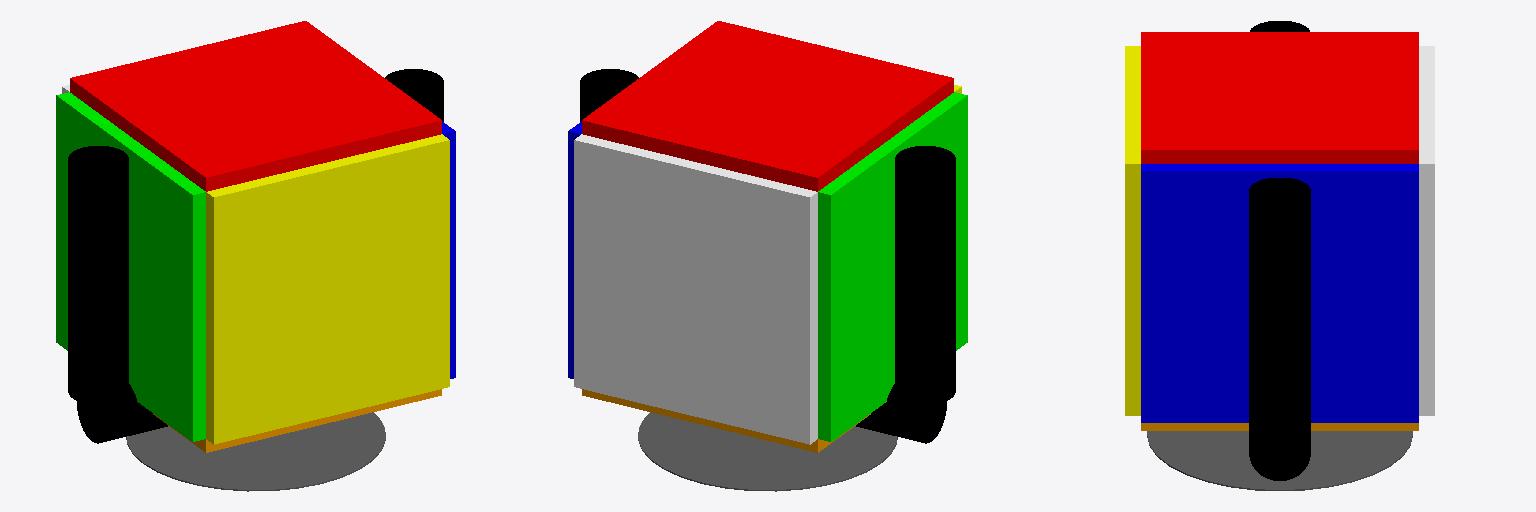
robot.urdf — snakebot:
<?xml version="1.0" ?>
<!-- =================================================================================== -->
<!-- |    This document was autogenerated by xacro from snakebot.urdf.xacro            | -->
<!-- |    EDITING THIS FILE BY HAND IS NOT RECOMMENDED                                 | -->
<!-- =================================================================================== -->
<robot name="snakebot">


  <!-- *************************************************** -->
  <!-- ******************* RVIZ Colors ******************* -->
  <!-- *************************************************** -->

  <material name="white">    <color rgba="1.00 1.00 1.00 1"/>  </material>
  <material name="gray">     <color rgba="0.60 0.60 0.60 1"/>  </material>
  <material name="table">    <color rgba="0.85 0.77 0.77 1"/>  </material>
  <material name="black">    <color rgba="0.00 0.00 0.00 1"/>  </material>

  <material name="red">      <color rgba="1.00 0.00 0.00 1"/>  </material>
  <material name="green">    <color rgba="0.00 1.00 0.00 1"/>  </material>
  <material name="blue">     <color rgba="0.00 0.00 1.00 1"/>  </material>

  <material name="cyan">     <color rgba="0.00 1.00 1.00 1"/>  </material>
  <material name="magenta">  <color rgba="1.00 0.00 1.00 1"/>  </material>
  <material name="yellow">   <color rgba="1.00 1.00 0.00 1"/>  </material>

  <material name="orange">   <color rgba="1.00 0.65 0.00 1"/>  </material>



  <!-- *************************************************** -->
  <!-- ******************* PARAMETERS ******************** -->
  <!-- *************************************************** -->
  <material name="Grey">
    <color rgba="0.4 0.4 0.4 1.0"/>
  </material>
  <material name="Red">
    <color rgba="0.82 0.06 0.06 1.0"/>
  </material>
  <material name="Orange">
    <color rgba="1.0 0.4235294117647059 0.0392156862745098 1.0"/>
  </material>
  <!-- *************************************************** -->
  <!-- ******************** BASE MACRO ******************* -->
  <!-- *************************************************** -->
  <!-- *************************************************** -->
  <!-- *************** PAIR OF JOINTS MACRO ************** -->
  <!-- *************************************************** -->
  <!-- *************************************************** -->
  <!-- ***************** TIP FLANGE MACRO **************** -->
  <!-- *************************************************** -->
  <!-- *************************************************** -->
  <!-- ********************** ROBOT ********************** -->
  <!-- *************************************************** -->
  <link name="world"/>
  <joint name="attach-base" type="fixed">
    <parent link="world"/>
    <child link="link0b"/>
  </joint>
  <link name="link0b">
    <visual>
      <geometry>
        <mesh filename="package://snakebot/meshes/base.stl"/>
      </geometry>
      <material name="Grey"/>
    </visual>
  </link>
  <joint name="shift0" type="fixed">
    <parent link="link0b"/>
    <child link="link0c"/>
    <origin rpy="0 0 0" xyz="0 0 0.1575"/>
  </joint>
  <link name="link0c">
    </link>
  <joint name="joint1a" type="continuous">
    <parent link="link0c"/>
    <child link="link1a"/>
    <origin rpy="0 0 3.141592653589793" xyz="0 0 0"/>
    <axis xyz="0 0 1"/>
  </joint>
  <link name="link1a">
    <inertial>
      <origin rpy="0 0 0" xyz="0 -0.03 0.12"/>
      <mass value="4"/>
      <inertia ixx="0.1" ixy="0" ixz="0" iyy="0.09" iyz="0" izz="0.02"/>
    </inertial>
    <visual>
      <origin rpy="0 0 0" xyz="0 0 0"/>
      <geometry>
        <mesh filename="package://snakebot/meshes/link.stl"/>
      </geometry>
      <material name="Orange"/>
    </visual>
  </link>
  <joint name="joint1b" type="continuous">
    <parent link="link1a"/>
    <child link="link1b"/>
    <origin rpy="0 0 0" xyz="0 0 0.2025"/>
    <axis xyz="0 1 0"/>
  </joint>
  <link name="link1b">
    <inertial>
      <origin rpy="3.141592653589793 0 0" xyz="0 0.03 0.08250000000000002"/>
      <mass value="4"/>
      <inertia ixx="0.1" ixy="0" ixz="0" iyy="0.09" iyz="0" izz="0.02"/>
    </inertial>
    <visual>
      <origin rpy="3.141592653589793 0 0" xyz="0 0 0.2025"/>
      <geometry>
        <mesh filename="package://snakebot/meshes/link.stl"/>
      </geometry>
      <material name="Orange"/>
    </visual>
  </link>
  <joint name="shift1" type="fixed">
    <parent link="link1b"/>
    <child link="link1c"/>
    <origin rpy="0 0 0" xyz="0 0 0.2025"/>
  </joint>
  <link name="link1c">
    </link>
  <joint name="joint2a" type="continuous">
    <parent link="link1c"/>
    <child link="link2a"/>
    <origin rpy="0 0 3.141592653589793" xyz="0 0 0"/>
    <axis xyz="0 0 1"/>
  </joint>
  <link name="link2a">
    <inertial>
      <origin rpy="0 0 0" xyz="0 -0.03 0.12"/>
      <mass value="4"/>
      <inertia ixx="0.1" ixy="0" ixz="0" iyy="0.09" iyz="0" izz="0.02"/>
    </inertial>
    <visual>
      <origin rpy="0 0 0" xyz="0 0 0"/>
      <geometry>
        <mesh filename="package://snakebot/meshes/link.stl"/>
      </geometry>
      <material name="Orange"/>
    </visual>
  </link>
  <joint name="joint2b" type="continuous">
    <parent link="link2a"/>
    <child link="link2b"/>
    <origin rpy="0 0 0" xyz="0 0 0.2025"/>
    <axis xyz="0 1 0"/>
  </joint>
  <link name="link2b">
    <inertial>
      <origin rpy="3.141592653589793 0 0" xyz="0 0.03 0.08250000000000002"/>
      <mass value="4"/>
      <inertia ixx="0.1" ixy="0" ixz="0" iyy="0.09" iyz="0" izz="0.02"/>
    </inertial>
    <visual>
      <origin rpy="3.141592653589793 0 0" xyz="0 0 0.2025"/>
      <geometry>
        <mesh filename="package://snakebot/meshes/link.stl"/>
      </geometry>
      <material name="Orange"/>
    </visual>
  </link>
  <joint name="shift2" type="fixed">
    <parent link="link2b"/>
    <child link="link2c"/>
    <origin rpy="0 0 0" xyz="0 0 0.2025"/>
  </joint>
  <link name="link2c">
    </link>
  <joint name="joint3a" type="continuous">
    <parent link="link2c"/>
    <child link="link3a"/>
    <origin rpy="0 0 3.141592653589793" xyz="0 0 0"/>
    <axis xyz="0 0 1"/>
  </joint>
  <link name="link3a">
    <inertial>
      <origin rpy="0 0 0" xyz="0 -0.03 0.12"/>
      <mass value="4"/>
      <inertia ixx="0.1" ixy="0" ixz="0" iyy="0.09" iyz="0" izz="0.02"/>
    </inertial>
    <visual>
      <origin rpy="0 0 0" xyz="0 0 0"/>
      <geometry>
        <mesh filename="package://snakebot/meshes/link.stl"/>
      </geometry>
      <material name="Orange"/>
    </visual>
  </link>
  <joint name="joint3b" type="continuous">
    <parent link="link3a"/>
    <child link="link3b"/>
    <origin rpy="0 0 0" xyz="0 0 0.2025"/>
    <axis xyz="0 1 0"/>
  </joint>
  <link name="link3b">
    <inertial>
      <origin rpy="3.141592653589793 0 0" xyz="0 0.03 0.08250000000000002"/>
      <mass value="4"/>
      <inertia ixx="0.1" ixy="0" ixz="0" iyy="0.09" iyz="0" izz="0.02"/>
    </inertial>
    <visual>
      <origin rpy="3.141592653589793 0 0" xyz="0 0 0.2025"/>
      <geometry>
        <mesh filename="package://snakebot/meshes/link.stl"/>
      </geometry>
      <material name="Orange"/>
    </visual>
  </link>
  <joint name="shift3" type="fixed">
    <parent link="link3b"/>
    <child link="link3c"/>
    <origin rpy="0 0 0" xyz="0 0 0.2025"/>
  </joint>
  <link name="link3c">
    </link>
  <joint name="joint4a" type="continuous">
    <parent link="link3c"/>
    <child link="link4a"/>
    <origin rpy="0 0 3.141592653589793" xyz="0 0 0"/>
    <axis xyz="0 0 1"/>
  </joint>
  <link name="link4a">
    <inertial>
      <origin rpy="0 0 0" xyz="0 -0.03 0.12"/>
      <mass value="4"/>
      <inertia ixx="0.1" ixy="0" ixz="0" iyy="0.09" iyz="0" izz="0.02"/>
    </inertial>
    <visual>
      <origin rpy="0 0 0" xyz="0 0 0"/>
      <geometry>
        <mesh filename="package://snakebot/meshes/link.stl"/>
      </geometry>
      <material name="Orange"/>
    </visual>
  </link>
  <joint name="joint4b" type="continuous">
    <parent link="link4a"/>
    <child link="link4b"/>
    <origin rpy="0 0 0" xyz="0 0 0.2025"/>
    <axis xyz="0 1 0"/>
  </joint>
  <link name="link4b">
    <inertial>
      <origin rpy="3.141592653589793 0 0" xyz="0 0.03 0.08250000000000002"/>
      <mass value="4"/>
      <inertia ixx="0.1" ixy="0" ixz="0" iyy="0.09" iyz="0" izz="0.02"/>
    </inertial>
    <visual>
      <origin rpy="3.141592653589793 0 0" xyz="0 0 0.2025"/>
      <geometry>
        <mesh filename="package://snakebot/meshes/link.stl"/>
      </geometry>
      <material name="Orange"/>
    </visual>
  </link>
  <joint name="shift4" type="fixed">
    <parent link="link4b"/>
    <child link="link4c"/>
    <origin rpy="0 0 0" xyz="0 0 0.2025"/>
  </joint>
  <link name="link4c">
    </link>
  <joint name="attach-mating-plate" type="fixed">
    <parent link="link4c"/>
    <child link="mating-plate"/>
  </joint>
  <link name="mating-plate">
    <visual>
      <geometry>
        <cylinder length="0.001" radius="0.086"/>
      </geometry>
      <material name="Grey"/>
    </visual>
  </link>
  <joint name="attach-flange" type="fixed">
    <parent link="mating-plate"/>
    <child link="flange"/>
  </joint>
  <link name="flange">
    <inertial>
      <origin rpy="0 0 0" xyz="0 0 0.02"/>
      <mass value="0.42857142857142855"/>
      <!--this is for the MFT Pneumatisch flange-->
      <inertia ixx="0.01" ixy="0" ixz="0" iyy="0.01" iyz="0" izz="0.01"/>
    </inertial>
    <visual>
      <geometry>
        <mesh filename="package://snakebot/meshes/flange.stl"/>
      </geometry>
      <material name="Grey"/>
    </visual>
  </link>
  <joint name="finalspin" type="continuous">
    <parent link="flange"/>
    <child link="tip"/>
    <origin rpy="0 0 0" xyz="0 0 0.045"/>
    <axis xyz="0 0 1"/>
  </joint>
  <link name="tip"/>


  
<!-- Attach Fingers and Cube*** -->

 <joint name="attach-palm" type="fixed">
    <parent link="tip"/>
    <child  link="palm"/>
  </joint>
  <link name="palm">
    <visual>
      <origin xyz="0 0 0" rpy="0 1.5708 0"/>
      <geometry>
    <cylinder length="0.25" radius="0.02"/>
      </geometry>
      <material name="black"/>
    </visual>
    <collision>
      <origin xyz="0 0 0" rpy="0 1.5708 0"/>
      <geometry>
    <cylinder length="0.1" radius="0.01"/>
      </geometry>
    </collision>
    <inertial>
      <origin xyz="0 0.1 0" rpy="0 1.5708 0"/>
      <mass value="0.05"/>
      <inertia
        ixx="0.000043" ixy="0.0" ixz="0.0"
        iyy="0.000043" iyz="0.0"
        izz="0.000003"/>
    </inertial>
  </link>

  <joint name="attach-leftfinger" type="fixed">
    <parent link="tip"/>
    <child  link="leftfinger"/>
  </joint>
  <link name="leftfinger">
    <visual>
      <origin xyz="-0.12 0 0.1" rpy="0 0 0"/>
      <geometry>
    <cylinder length="0.17" radius="0.02"/>
      </geometry>
      <material name="black"/>
    </visual>
    <inertial>
      <origin xyz="-0.1 0 0" rpy="0 0 0"/>
      <mass value="0.05"/>
      <inertia
        ixx="0.000022" ixy="0.0" ixz="0.0"
        iyy="0.000022" iyz="0.0"
        izz="0.000002"/>
    </inertial>
  </link>

  <joint name="attach-rightfinger" type="fixed">
    <parent link="tip"/>
    <child  link="rightfinger"/>
  </joint>
  <link name="rightfinger">
    <visual>
      <origin xyz="0.12 0 0.1" rpy="0 0 0"/>
      <geometry>
    <cylinder length="0.17" radius="0.02"/>
      </geometry>
      <material name="black"/>
    </visual>
    <inertial>
      <origin xyz="0.1 0 0.14" rpy="0 0 0"/>
      <mass value="0.05"/>
      <inertia
        ixx="0.000022" ixy="0.0" ixz="0.0"
        iyy="0.000022" iyz="0.0"
        izz="0.000002"/>
    </inertial>
  </link>

  <!-- *** Cube: Six sides *** -->

  <joint name="attach-cube" type="fixed">
    <parent link="tip"/>
    <child  link="cube"/>
  </joint>
  <link name="cube">
    <collision>
      <origin xyz="0 0 0.0" rpy="0 0 0"/>
      <geometry>
    <box size="0.2 0.2 0.20"/>
      </geometry>
    </collision>
    <inertial>
      <origin xyz="0 0 0" rpy="0 0 0"/>
      <mass value="1.0"/>
      <inertia
        ixx="0.000120" ixy="0.0" ixz="0.0"
        iyy="0.000120" iyz="0.0"
        izz="0.000120"/>
    </inertial>
  </link>

  <joint name="attach-cube-xp" type="fixed">
    <parent link="cube"/>
    <child  link="cube-xp"/>
  </joint>
  <link name="cube-xp">
    <visual>
      <origin         xyz=" 0.08   0    0.1"    rpy="0 0 0"/>
      <geometry> <box size="0.0404 0.18 0.18"/> </geometry>
      <material name="blue"/>
    </visual>
  </link>

  <joint name="attach-cube-xm" type="fixed">
    <parent link="cube"/>
    <child  link="cube-xm"/>
  </joint>
  <link name="cube-xm">
    <visual>
      <origin         xyz="-0.08   0    0.1"    rpy="0 0 0"/>
      <geometry> <box size="0.0404 0.18 0.18"/> </geometry>
      <material name="green"/>
    </visual>
  </link>

  <joint name="attach-cube-yp" type="fixed">
    <parent link="cube"/>
    <child  link="cube-yp"/>
  </joint>
  <link name="cube-yp">
    <visual>
      <origin         xyz=" 0    0.08   0.1"    rpy="0 0 0"/>
      <geometry> <box size="0.18 0.0404 0.18"/> </geometry>
      <material name="white"/>
    </visual>
  </link>

  <joint name="attach-cube-ym" type="fixed">
    <parent link="cube"/>
    <child  link="cube-ym"/>
  </joint>
  <link name="cube-ym">
    <visual>
      <origin         xyz=" 0   -0.08   0.1"    rpy="0 0 0"/>
      <geometry> <box size="0.18 0.0404 0.18"/> </geometry>
      <material name="yellow"/>
    </visual>
  </link>

  <joint name="attach-cube-zp" type="fixed">
    <parent link="cube"/>
    <child  link="cube-zp"/>
  </joint>
  <link name="cube-zp">
    <visual>
      <origin         xyz=" 0    0    0.18"   rpy="0 0 0"/>
      <geometry> <box size="0.18 0.18 0.0404"/> </geometry>
      <material name="red"/>
    </visual>
  </link>

  <joint name="attach-cube-zm" type="fixed">
    <parent link="cube"/>
    <child  link="cube-zm"/>
  </joint>
  <link name="cube-zm">
    <visual>
      <origin         xyz=" 0    0   0.02"   rpy="0 0 0"/>
      <geometry> <box size="0.18 0.18 0.0404"/> </geometry>
      <material name="orange"/>
    </visual>
  </link>


</robot>

--- What the picture shows (computed from the rendered views, not written in the file) ---
3 views of the same robot in one strip: view 1: azimuth 30°, elevation 25°; view 2: azimuth 150°, elevation 25°; view 3: azimuth 270°, elevation 25° (orthographic).
Robot: snakebot — 28 links, 27 joints (9 continuous, 18 fixed); root link world; default pose: all joints at 0.
Visible links, largest first — view 1: cube-ym, cube-zp, cube-xm, leftfinger, mating-plate, palm, cube-zm, rightfinger, cube-xp; view 2: cube-yp, cube-zp, cube-xm, leftfinger, mating-plate, palm, cube-zm, rightfinger, cube-xp; view 3: cube-xp, cube-zp, rightfinger, mating-plate, cube-yp, cube-ym, palm, cube-zm, leftfinger.
Link boxes in pixels (box(x1,y1,x2,y2)): cube-ym: box(206, 134, 449, 444); cube-zp: box(70, 21, 441, 191); cube-xm: box(56, 92, 205, 441); leftfinger: box(68, 146, 128, 404); mating-plate: box(126, 412, 385, 491); palm: box(77, 384, 167, 443); cube-zm: box(153, 389, 441, 452); rightfinger: box(385, 69, 443, 121); cube-xp: box(442, 121, 455, 378); cube-yp: box(574, 134, 817, 444); cube-zp: box(582, 21, 953, 191); cube-xm: box(818, 92, 967, 441); leftfinger: box(895, 146, 955, 404); mating-plate: box(638, 412, 897, 491); palm: box(856, 384, 946, 443); cube-zm: box(582, 389, 870, 452); rightfinger: box(580, 69, 638, 121); cube-xp: box(568, 121, 581, 378); cube-xp: box(1141, 164, 1418, 422); cube-zp: box(1141, 32, 1418, 163); rightfinger: box(1249, 178, 1310, 441); mating-plate: box(1147, 431, 1412, 490); cube-yp: box(1419, 46, 1434, 415); cube-ym: box(1125, 46, 1140, 415); palm: box(1249, 431, 1310, 480); cube-zm: box(1141, 423, 1418, 430); leftfinger: box(1250, 21, 1309, 31).
Size in the robot's own frame: 0.28 by 0.2004 by 0.2457 metres.
Meshes: 3 distinct files referenced, 0 mesh visuals loaded (none loaded); not drawn: 10 (reference not matched to a file when rendering).